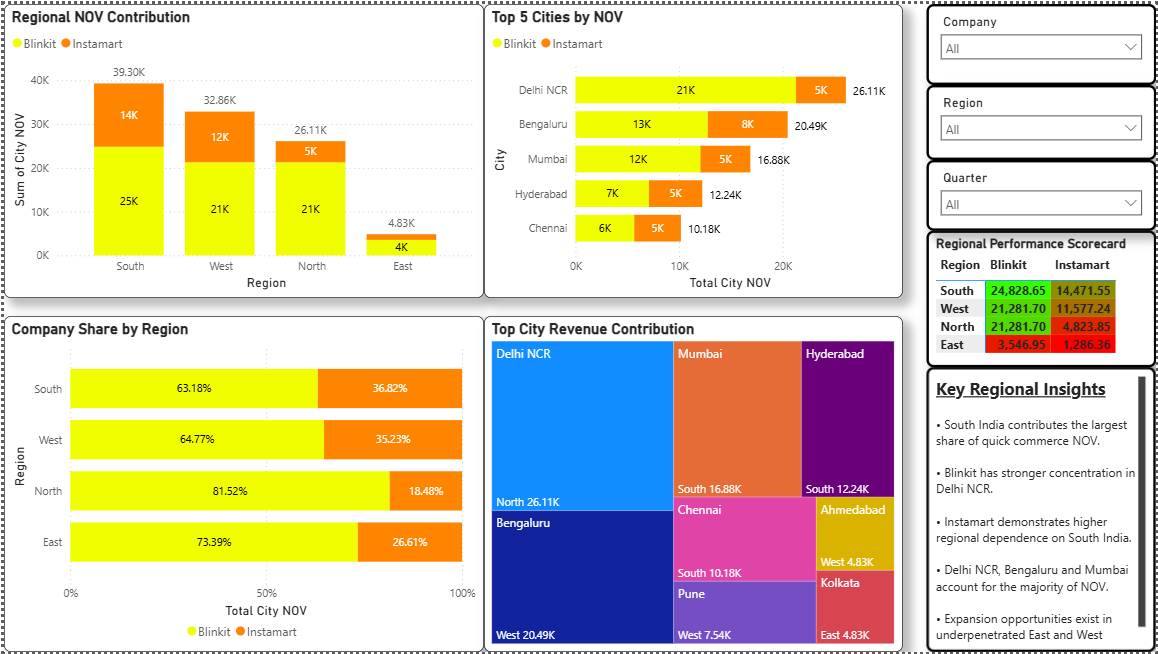

Layout of this report page (visuals, bound fields, positions):
{"tool":"powerbi","page":{"name":"Regional & City Performance","canvas":[1280,720],"ordinal":2},"visuals":[{"type":"columnChart","title":"Regional NOV Contribution","fields":{"Category":["Dim_City.Region"],"Y":["Sum(Fact_CityPerformance.City NOV)"],"Series":["Dim_Company.Company"]},"box":[0,0,533.3,326.7],"z":0},{"type":"hundredPercentStackedBarChart","title":"Company Share by Region","fields":{"Category":["Dim_City.Region"],"Y":["Fact_CityPerformance.Total City NOV"],"Series":["Dim_Company.Company"]},"box":[0,346.7,533.3,373.3],"z":1000},{"type":"barChart","title":"Top 5 Cities by NOV","fields":{"Category":["Dim_City.City"],"Y":["Fact_CityPerformance.Total City NOV"],"Series":["Dim_Company.Company"]},"box":[533.3,0,465,326.7],"z":2000},{"type":"treemap","title":"Top City Revenue Contribution","fields":{"Group":["Dim_City.City"],"Details":["Dim_City.Region"],"Values":["Fact_CityPerformance.Total City NOV"]},"box":[533.3,346.7,465,373.3],"z":3000},{"type":"pivotTable","title":"Regional Performance Scorecard","fields":{"Rows":["Dim_City.Region"],"Columns":["Dim_Company.Company"],"Values":["Fact_CityPerformance.Total City NOV"]},"box":[1025,251.7,255,151.7],"z":4000},{"type":"textbox","box":[1025.1,402.8,254.4,316.5],"z":5000},{"type":"slicer","fields":{"Values":["Dim_Company.Company"]},"box":[1025,0,255,90],"z":6000},{"type":"slicer","fields":{"Values":["Dim_City.Region"]},"box":[1025,90,255,83.3],"z":7000},{"type":"slicer","fields":{"Values":["Dim_Date.Quarter"]},"box":[1025,173.3,255,78.3],"z":8000}]}

Visuals, with their boxes in screenshot pixels (x1, y1, x2, y2), scaled from the page's 1280x720 canvas onto the 1158x654 screenshot:
"Regional NOV Contribution" columnChart: rect(0, 0, 482, 297)
"Company Share by Region" hundredPercentStackedBarChart: rect(0, 315, 482, 653)
"Top 5 Cities by NOV" barChart: rect(482, 0, 903, 297)
"Top City Revenue Contribution" treemap: rect(482, 315, 903, 653)
"Regional Performance Scorecard" pivotTable: rect(927, 229, 1157, 366)
textbox: rect(927, 366, 1157, 653)
slicer - Dim_Company.Company: rect(927, 0, 1157, 82)
slicer - Dim_City.Region: rect(927, 82, 1157, 157)
slicer - Dim_Date.Quarter: rect(927, 157, 1157, 229)
